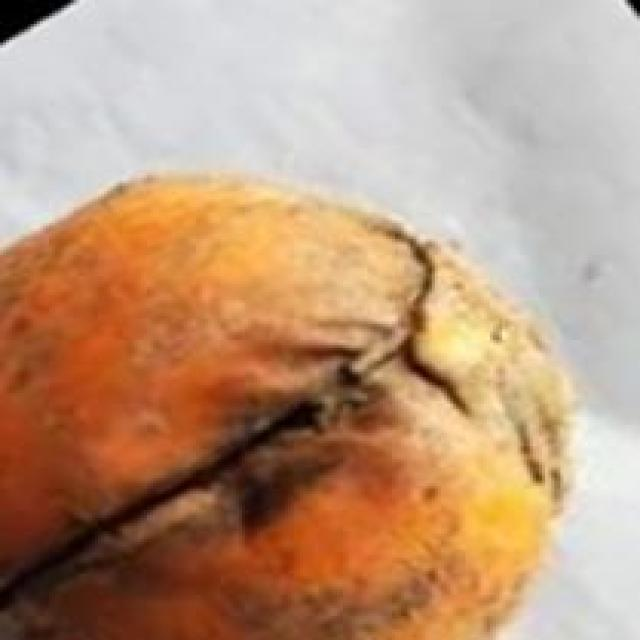damaged: (0, 173, 588, 637)
